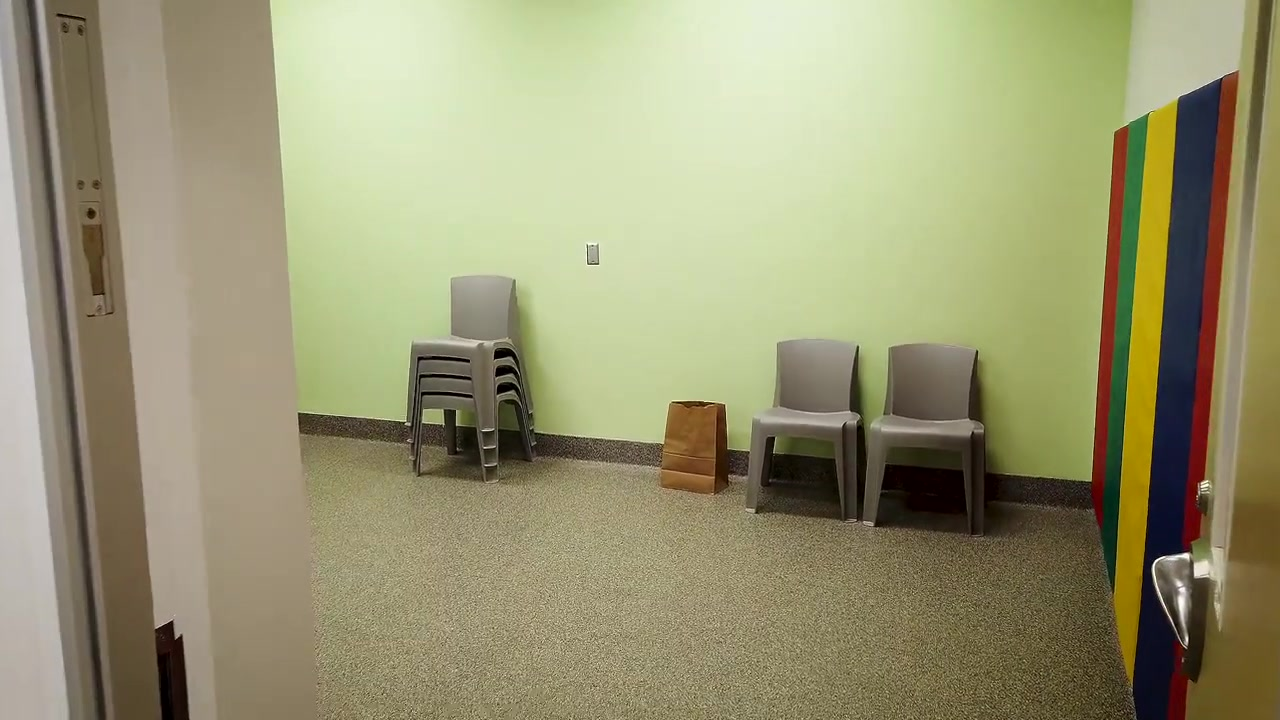chair: (406, 275, 538, 484), (863, 343, 987, 534), (746, 337, 862, 525)
door_handle: (1149, 538, 1220, 684)
